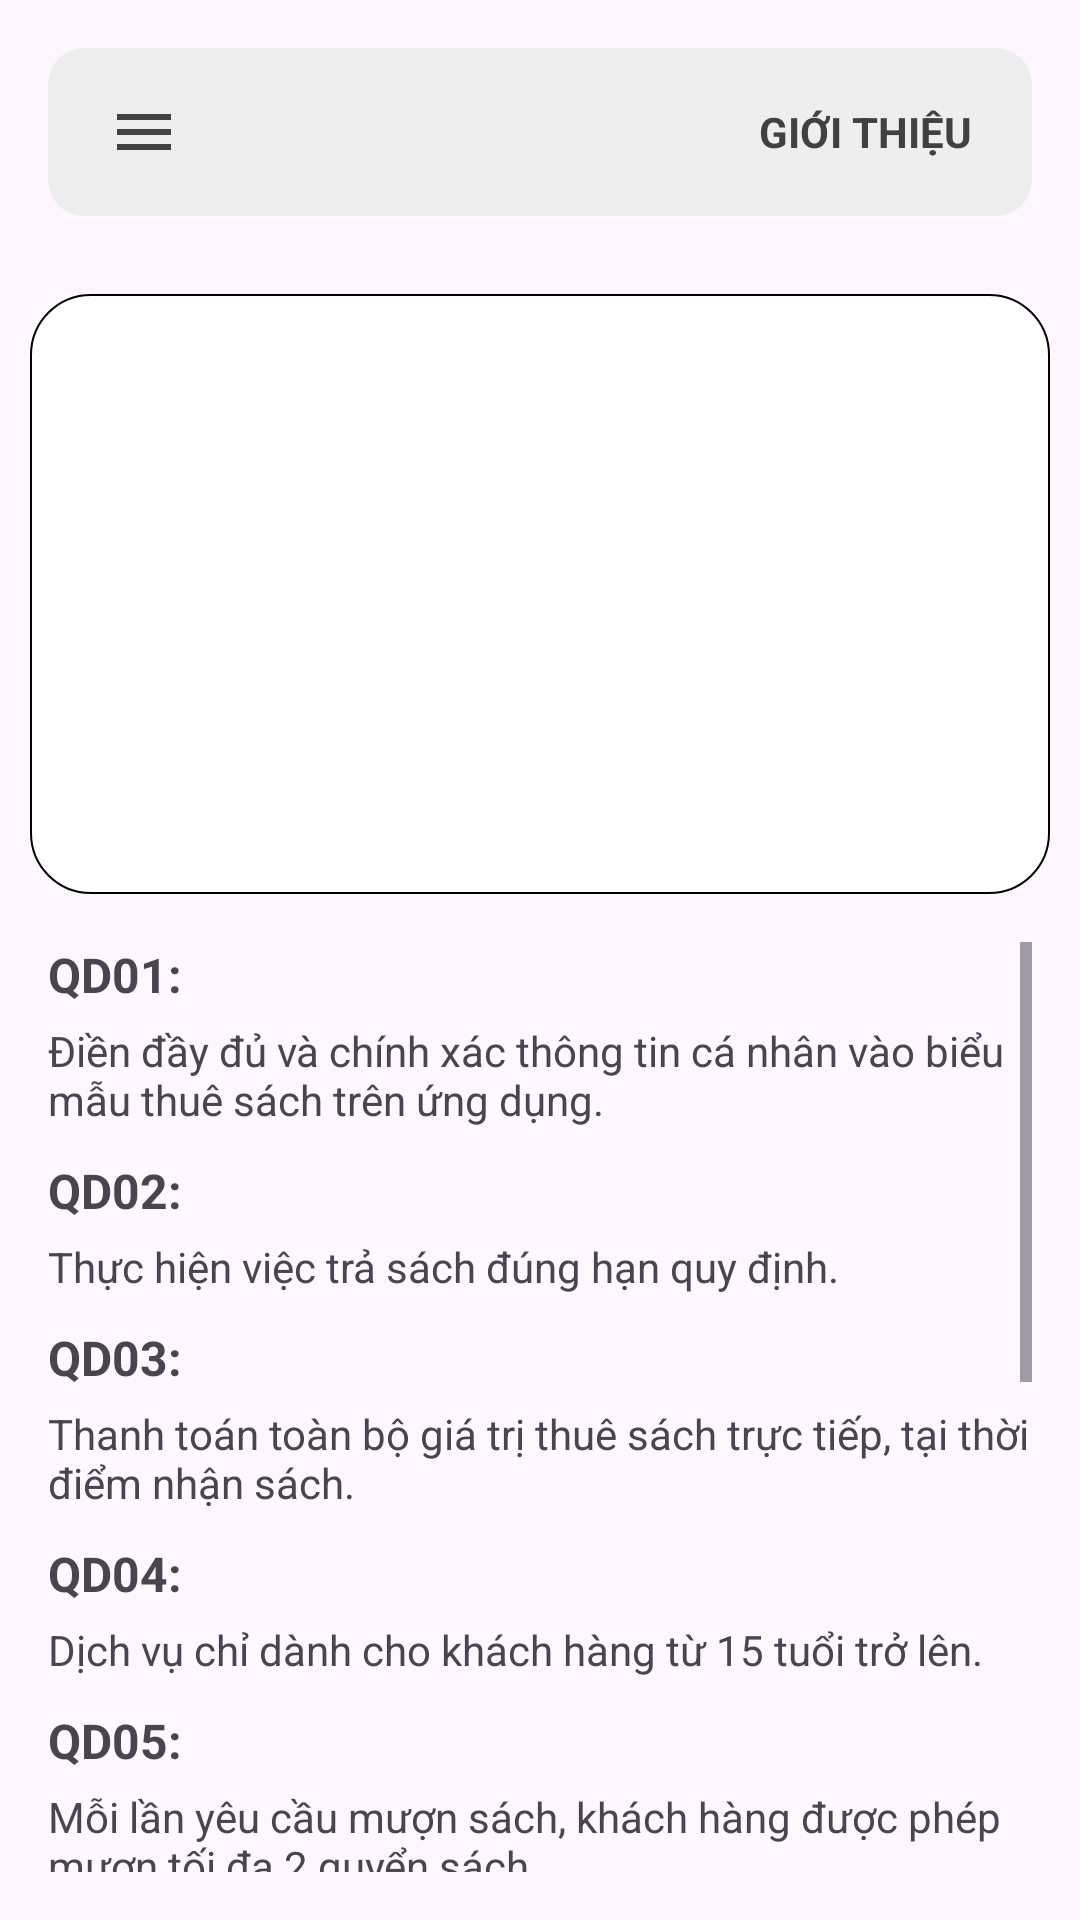

Point at icon controls on the screen. Image size 1080*1920, points as point (x, y).
menu: point (144, 132)
